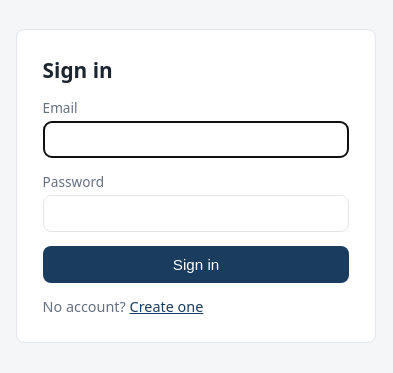
Scenario: <Login /> › requires a password
The width and height of the screenshot is (393, 373).
Type "user@example.com" into the field labelled "Email".
click(196, 139); type("user@example.com")  # box [43,121,349,158]
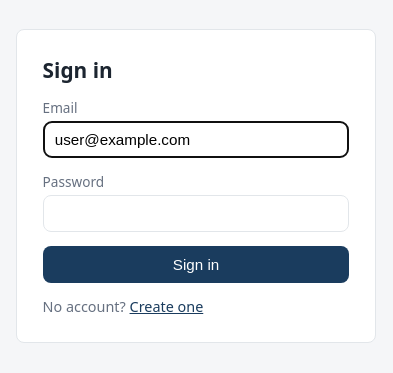
Click the button "Sign in".
click(196, 264)  # box [43,246,349,283]
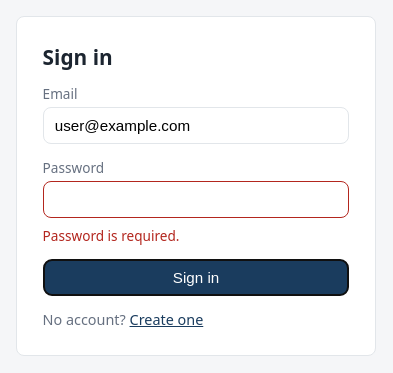
Expected: the text "Password is required." is shown, [43,226,180,245]
